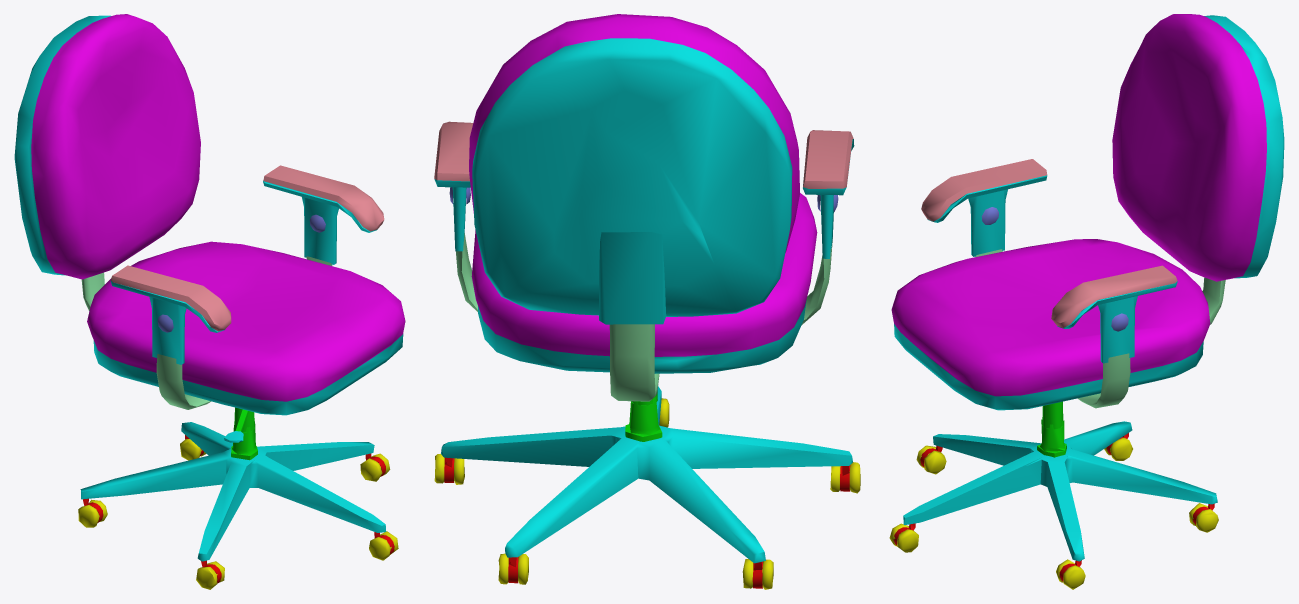
The model's file is Chair.glb.
The picture shows the model from 3 angles, left to right: view 1: azimuth 30°, elevation 25°; view 2: azimuth 150°, elevation 25°; view 3: azimuth 270°, elevation 25°; orthographic projection. The views are drawn at different scales.
Visible parts, largest first — view 1: Anim.007, Black Office Chair.007; view 2: Anim.007, Black Office Chair.007; view 3: Anim.007, Black Office Chair.007.
Boxes of the visible parts, box(x1,y1,x2,y2) form: Anim.007: box(14, 14, 405, 442); Black Office Chair.007: box(78, 421, 398, 589); Anim.007: box(434, 14, 854, 405); Black Office Chair.007: box(434, 386, 860, 589); Anim.007: box(891, 14, 1284, 429); Black Office Chair.007: box(889, 419, 1218, 589).
Size of the model in its own units: 0.7769 by 1.05 by 0.8189.
